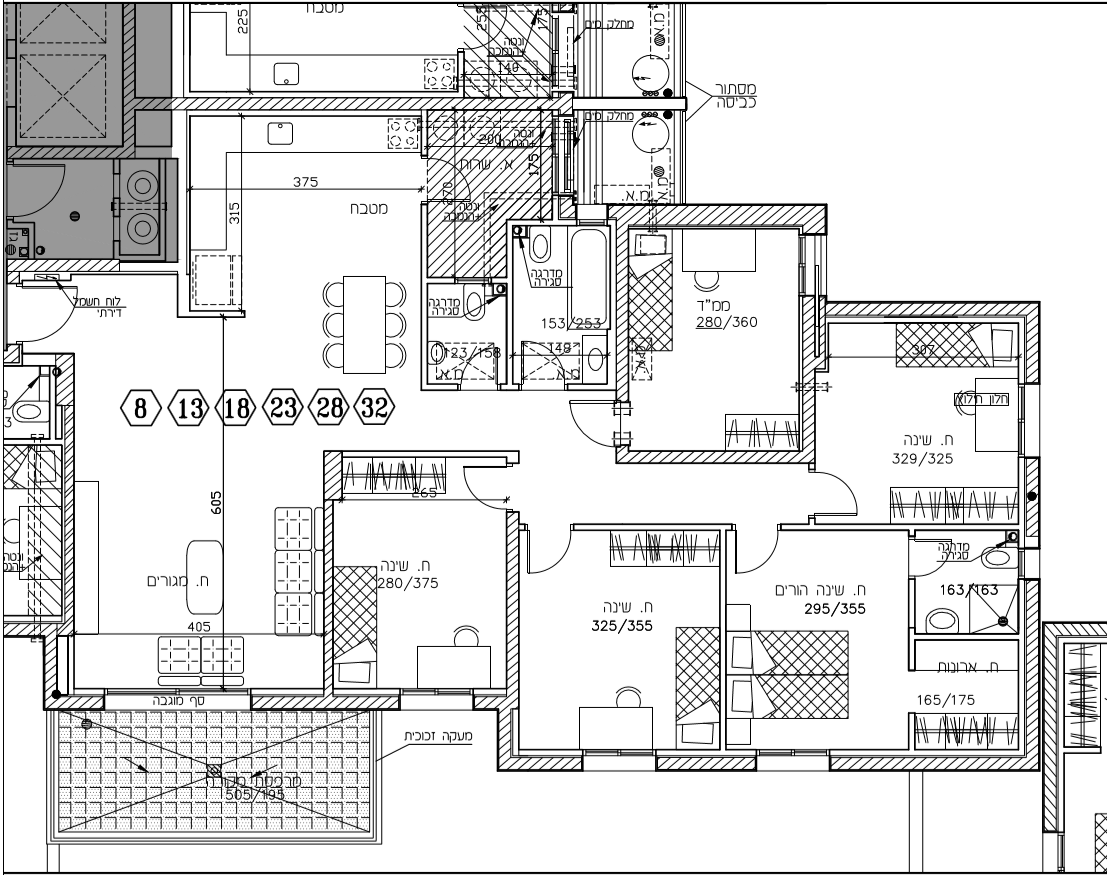door: (32, 285, 84, 347), (727, 533, 787, 578), (457, 459, 501, 516), (821, 465, 865, 521), (561, 398, 607, 451), (21, 162, 69, 211), (522, 535, 575, 579)
wall: (606, 196, 831, 238), (316, 449, 339, 696), (174, 96, 551, 111), (1024, 578, 1043, 771), (828, 301, 1040, 318), (831, 754, 1041, 771), (616, 448, 813, 465), (505, 512, 518, 764), (474, 689, 513, 772), (616, 207, 627, 402), (123, 5, 134, 156), (251, 695, 398, 706), (8, 259, 118, 272), (1024, 305, 1040, 379), (657, 758, 754, 770)
window: (755, 745, 830, 789), (581, 746, 656, 790), (398, 683, 474, 720), (1013, 383, 1049, 458), (791, 234, 831, 297)
